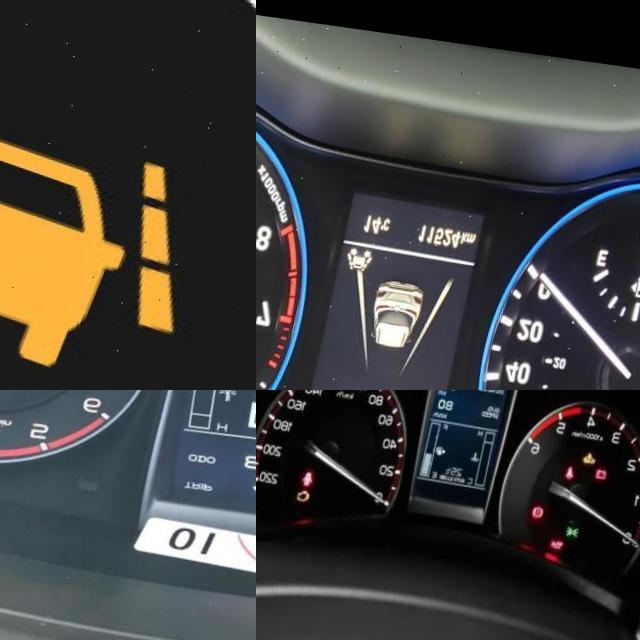Seat Belt: (580, 453, 589, 466)
